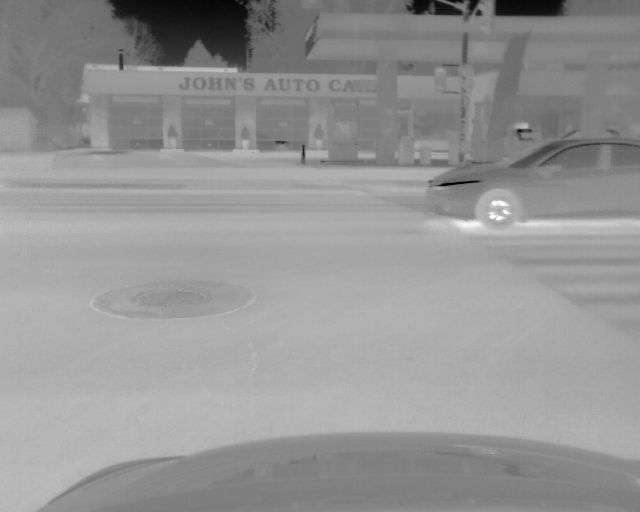car: (424, 133, 640, 230)
